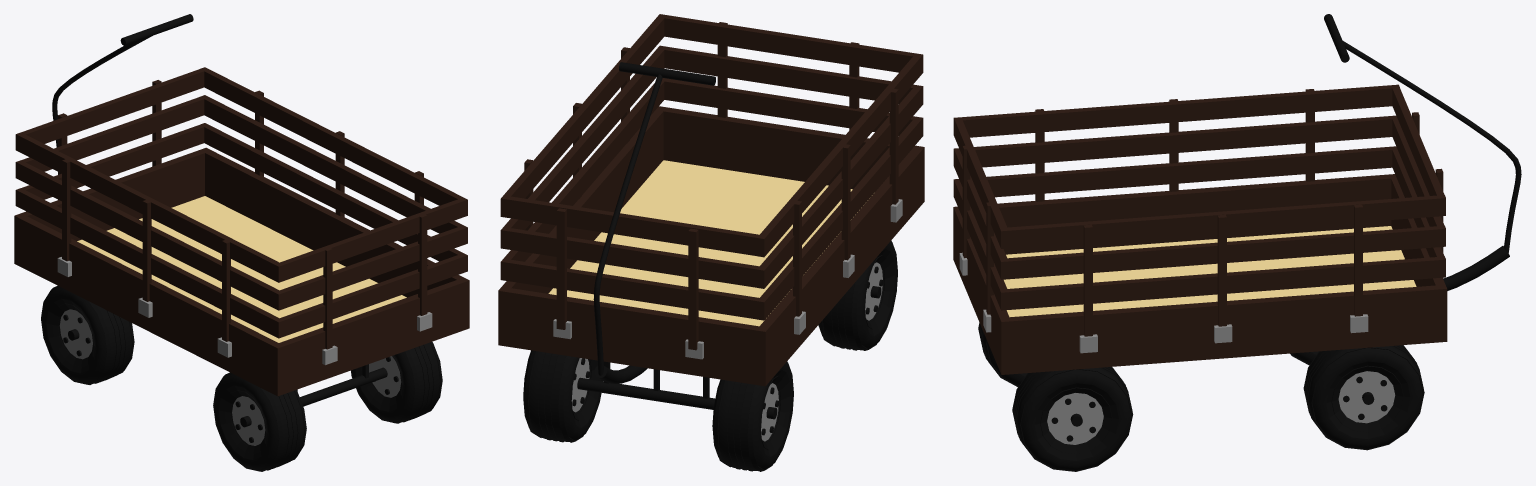
Rendered from Wagon.obj.
3 renders of one model, left to right at view 1: azimuth 30°, elevation 25°; view 2: azimuth 150°, elevation 25°; view 3: azimuth 270°, elevation 25°, orthographic. The views are drawn at different scales.
Visible parts, largest first — view 1: Box20226, Cylinder042, Cylinder049, Box20235, Box20232, Box20244, Box20231, Box20237, Cylinder046, Box20236, Box20238, Box20240 (+12 smaller); view 2: Box20226, Cylinder049, Cylinder041, Box20240, Box20238, Box20239, Box20243, Box20245, Cylinder042, Box20241, Box20235, Box20232 (+13 smaller); view 3: Box20226, Cylinder041, Cylinder046, Box20232, Box20235, Box20236, Box20237, Box20244, Box20231, Line005, Box20238, Box20240 (+10 smaller).
Boxes of the visible parts, x1=… form: Box20226: x1=14, y1=147, x2=469, y2=396; Cylinder042: x1=213, y1=372, x2=306, y2=471; Cylinder049: x1=41, y1=285, x2=134, y2=384; Box20235: x1=200, y1=67, x2=467, y2=217; Box20232: x1=15, y1=133, x2=283, y2=282; Box20244: x1=15, y1=161, x2=283, y2=310; Box20231: x1=15, y1=188, x2=283, y2=338; Box20237: x1=200, y1=95, x2=467, y2=245; Cylinder046: x1=351, y1=342, x2=442, y2=423; Box20236: x1=200, y1=123, x2=467, y2=272; Box20238: x1=17, y1=68, x2=205, y2=143; Box20240: x1=275, y1=198, x2=464, y2=280; Box20226: x1=498, y1=106, x2=924, y2=386; Cylinder049: x1=712, y1=361, x2=793, y2=471; Cylinder041: x1=523, y1=350, x2=603, y2=442; Box20240: x1=662, y1=15, x2=919, y2=72; Box20238: x1=506, y1=196, x2=764, y2=255; Box20239: x1=505, y1=259, x2=764, y2=319; Box20243: x1=505, y1=227, x2=765, y2=287; Box20245: x1=663, y1=46, x2=917, y2=103; Cylinder042: x1=818, y1=240, x2=897, y2=350; Box20241: x1=663, y1=78, x2=919, y2=135; Box20235: x1=500, y1=14, x2=666, y2=217; Box20232: x1=757, y1=53, x2=923, y2=257; Box20226: x1=953, y1=174, x2=1447, y2=374; Cylinder041: x1=1303, y1=345, x2=1424, y2=450; Cylinder046: x1=1012, y1=367, x2=1133, y2=471; Box20232: x1=953, y1=84, x2=1399, y2=138; Box20235: x1=999, y1=195, x2=1445, y2=248; Box20236: x1=999, y1=256, x2=1445, y2=310; Box20237: x1=999, y1=225, x2=1445, y2=279; Box20244: x1=953, y1=115, x2=1397, y2=169; Box20231: x1=953, y1=146, x2=1397, y2=199; Line005: x1=1343, y1=41, x2=1521, y2=253; Box20238: x1=1392, y1=88, x2=1444, y2=196; Box20240: x1=955, y1=118, x2=1007, y2=244.
Size of the model in its own units: 1048 by 1211 by 1697.
